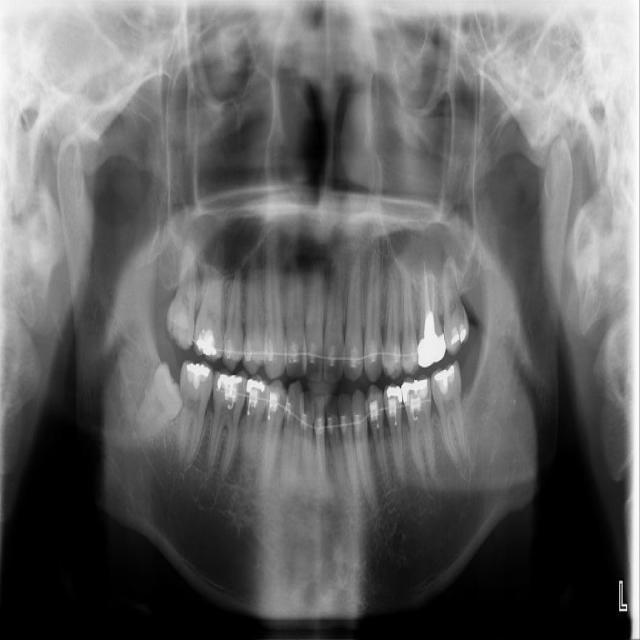52: (426, 360, 469, 409), (177, 358, 216, 409), (399, 373, 437, 418), (416, 324, 448, 368), (444, 302, 469, 356)
73: (419, 256, 443, 336), (578, 522, 584, 534)
BioHorizons Implant: (440, 237, 472, 356)
Blue Sky Bio Implant: (428, 359, 470, 470)
Caries: (164, 230, 200, 351)
Implant: (177, 360, 215, 464)
Keystone Dental Implant: (128, 358, 197, 451)
